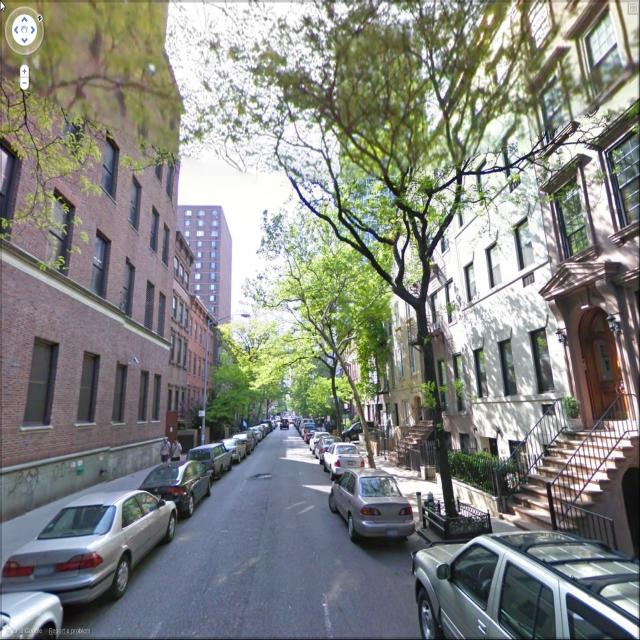b_1: (178, 198, 246, 335), (167, 237, 187, 452), (184, 298, 215, 436)
b_2: (0, 4, 174, 470), (519, 1, 640, 444), (444, 34, 574, 446), (334, 29, 427, 277), (420, 141, 486, 445), (394, 125, 443, 438)
